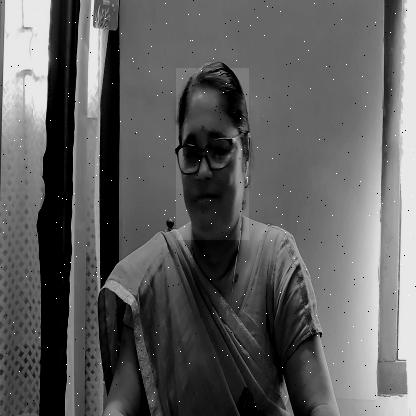Normal: (176, 68, 249, 240)
